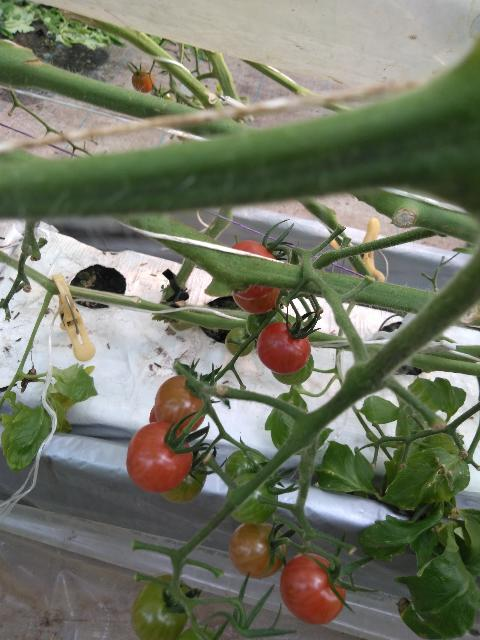l_fully_ripened: (279, 552, 346, 626), (126, 421, 193, 494), (222, 241, 281, 301), (257, 322, 311, 375)
l_green: (130, 574, 192, 640), (159, 448, 208, 505), (226, 472, 278, 525), (224, 449, 271, 486), (271, 354, 314, 386), (245, 308, 283, 341), (226, 328, 255, 356)
l_half_ripened: (155, 375, 209, 434), (229, 524, 286, 579), (232, 288, 283, 315)
